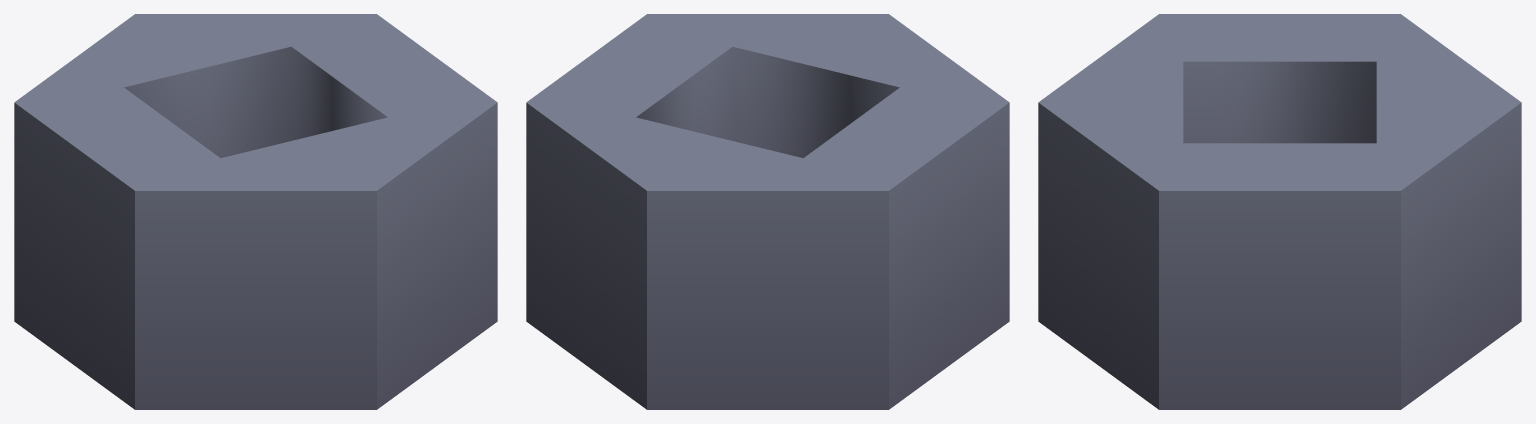
The model's file is debris-nut.glb.
The picture shows the model from 3 angles, left to right: view 1: azimuth 30°, elevation 25°; view 2: azimuth 150°, elevation 25°; view 3: azimuth 270°, elevation 25°; orthographic projection.
Visible parts, largest first — view 1: debris-nut; view 2: debris-nut; view 3: debris-nut.
Boxes of the visible parts, x1,y1,x2,y2 form: debris-nut: [14, 14, 497, 409]; debris-nut: [526, 14, 1009, 409]; debris-nut: [1038, 14, 1521, 409].
Size of the model in its own units: 0.1732 by 0.1 by 0.2.
1 material, 1 textured.
